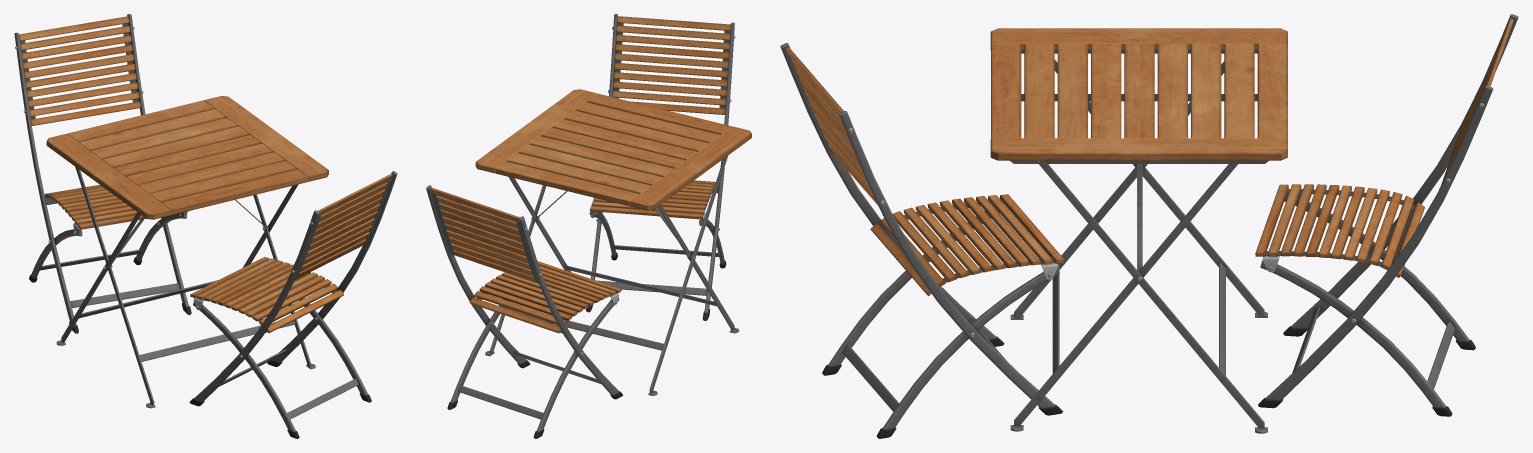
Rendered from outdoor-set.glb.
3 views of the same model, side by side, from view 1: azimuth 30°, elevation 25°; view 2: azimuth 150°, elevation 25°; view 3: azimuth 270°, elevation 25° (orthographic). The views are drawn at different scales.
Visible parts, largest first — view 1: outdoor_table_chair_set_01_table, outdoor_table_chair_set_01_chair_02, outdoor_table_chair_set_01_chair_01; view 2: outdoor_table_chair_set_01_table, outdoor_table_chair_set_01_chair_02, outdoor_table_chair_set_01_chair_01; view 3: outdoor_table_chair_set_01_table, outdoor_table_chair_set_01_chair_01, outdoor_table_chair_set_01_chair_02.
Part boxes in pixels (<box>): outdoor_table_chair_set_01_table: <box>46,96,328,408</box>; outdoor_table_chair_set_01_chair_02: <box>14,14,191,333</box>; outdoor_table_chair_set_01_chair_01: <box>189,171,397,438</box>; outdoor_table_chair_set_01_table: <box>475,89,751,395</box>; outdoor_table_chair_set_01_chair_02: <box>426,185,622,438</box>; outdoor_table_chair_set_01_chair_01: <box>586,14,735,320</box>; outdoor_table_chair_set_01_table: <box>990,28,1287,433</box>; outdoor_table_chair_set_01_chair_01: <box>780,43,1064,438</box>; outdoor_table_chair_set_01_chair_02: <box>1255,14,1518,416</box>.
Size of the model in its own units: 0.7417 by 0.8586 by 1.72.
2 materials, 2 textured.
